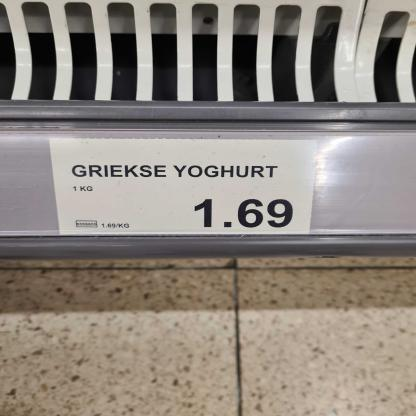prtg: (51, 139, 320, 235)
